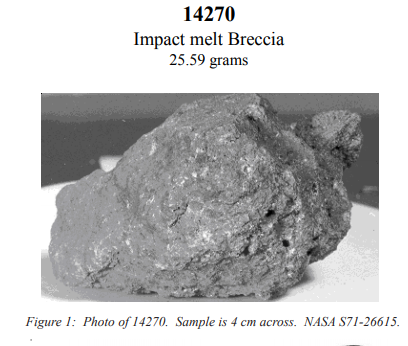Breccia: (40, 92, 372, 294)
